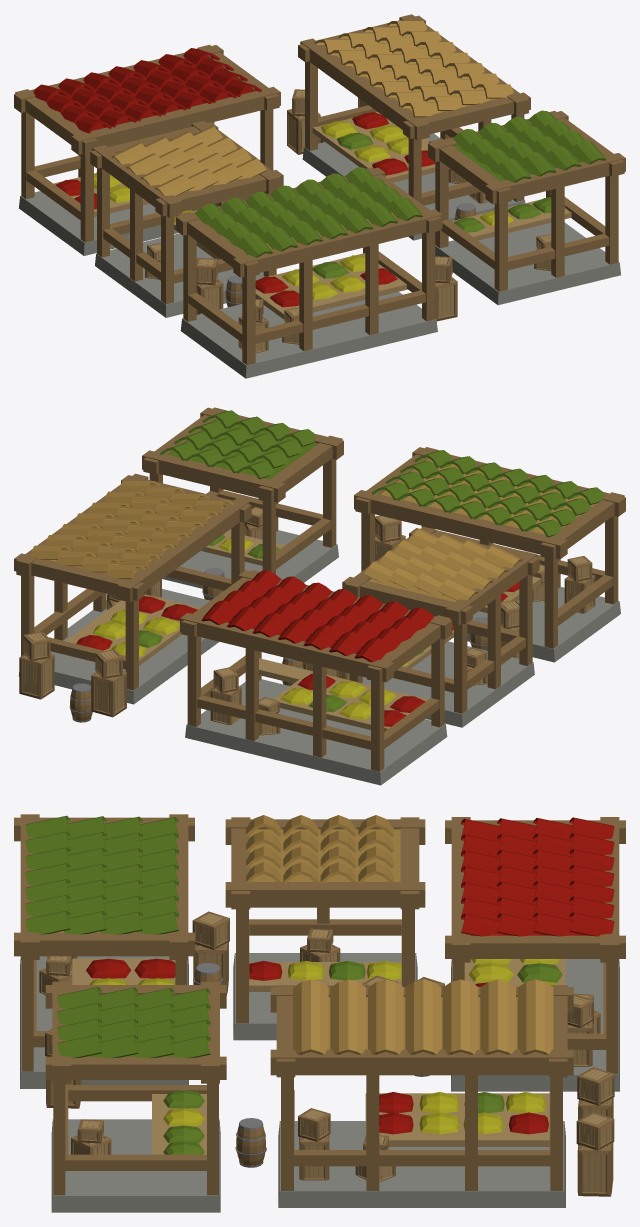
File: Market.gltf
The picture shows the model from 3 angles, top to bottom: view 1: azimuth 30°, elevation 25°; view 2: azimuth 150°, elevation 25°; view 3: azimuth 270°, elevation 25°; orthographic projection. The views are drawn at different scales.
Parts seen in each view (by area): view 1: Market_SecondAge_Level3; view 2: Market_SecondAge_Level3; view 3: Market_SecondAge_Level3.
Part boxes in pixels (box(x1,y1,x2,y2)): Market_SecondAge_Level3: box(14, 14, 625, 378); Market_SecondAge_Level3: box(14, 407, 625, 785); Market_SecondAge_Level3: box(14, 814, 625, 1212).
Bounding box in the file's own units: 1.93 × 0.6571 × 1.99.
